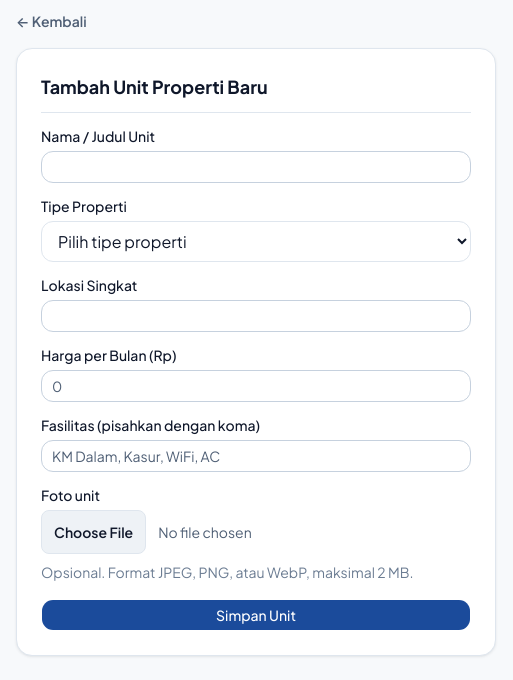
UnitFormPage › menampilkan galat di bawah bidang dan ringkasan saat nama kosong
Type "1200000" into the number field labelled "Harga per Bulan (Rp)" at (256, 386), box [41,370,471,402]
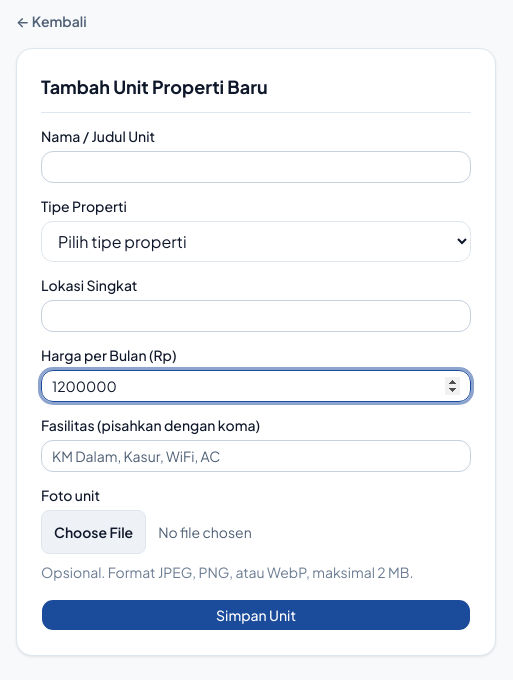
Click the button "Simpan Unit" at (256, 615), box [41,599,471,631]
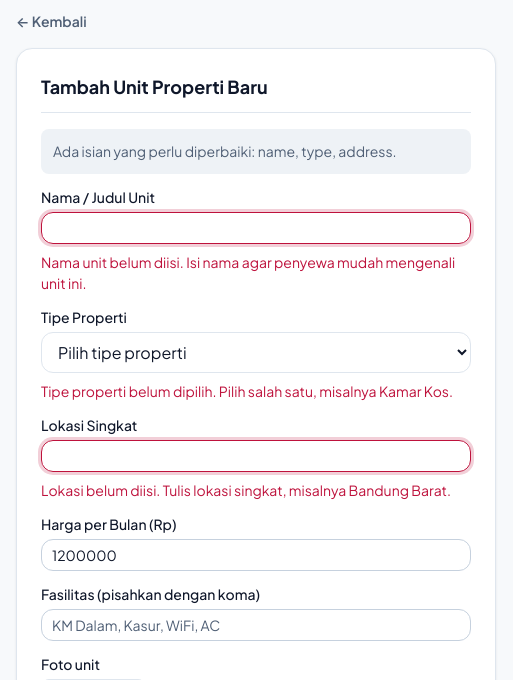
Expected: the text "Nama unit belum diisi" is shown, [41,253,455,292]
Expected: the message shows "Ada isian yang perlu diperbaiki", [53,142,258,160]
